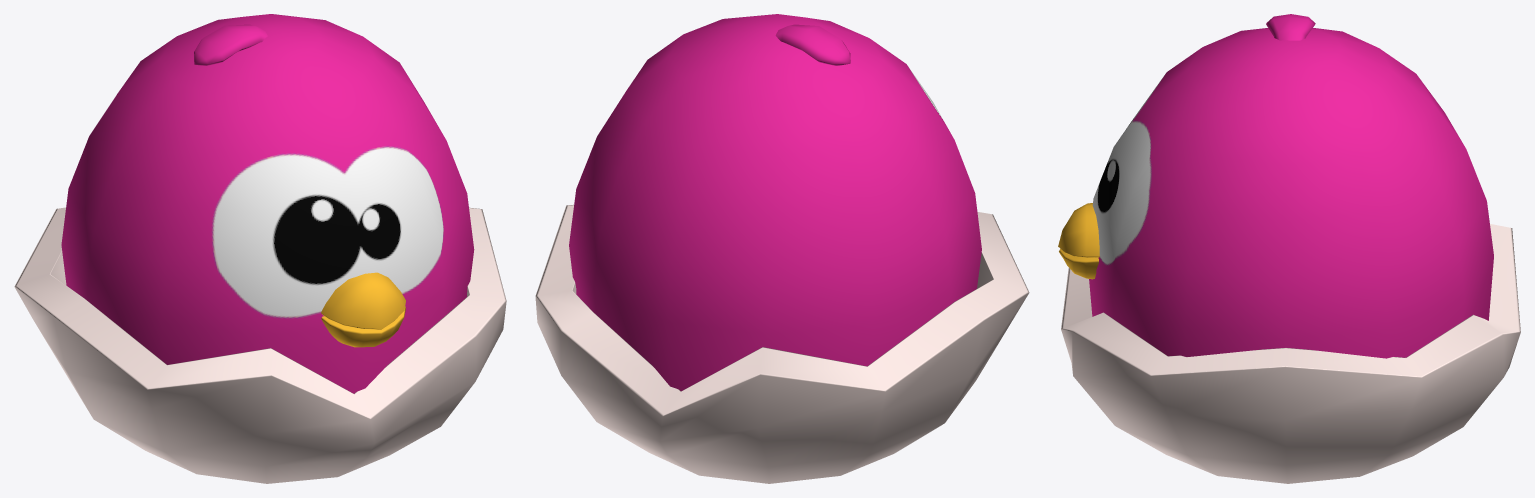
The model's file is birdEggPurple.fbx.
3 renders of one model, left to right at view 1: azimuth 30°, elevation 25°; view 2: azimuth 150°, elevation 25°; view 3: azimuth 270°, elevation 25°, orthographic. The views are drawn at different scales.
Parts seen in each view (by area): view 1: birdEggPurple; view 2: birdEggPurple; view 3: birdEggPurple.
Part boxes in pixels (x1,y1,x2,y2): birdEggPurple: (14, 14, 506, 483); birdEggPurple: (535, 14, 1029, 483); birdEggPurple: (1058, 14, 1520, 483).
Size of the model in its own units: 98.56 by 97.05 by 95.21.
